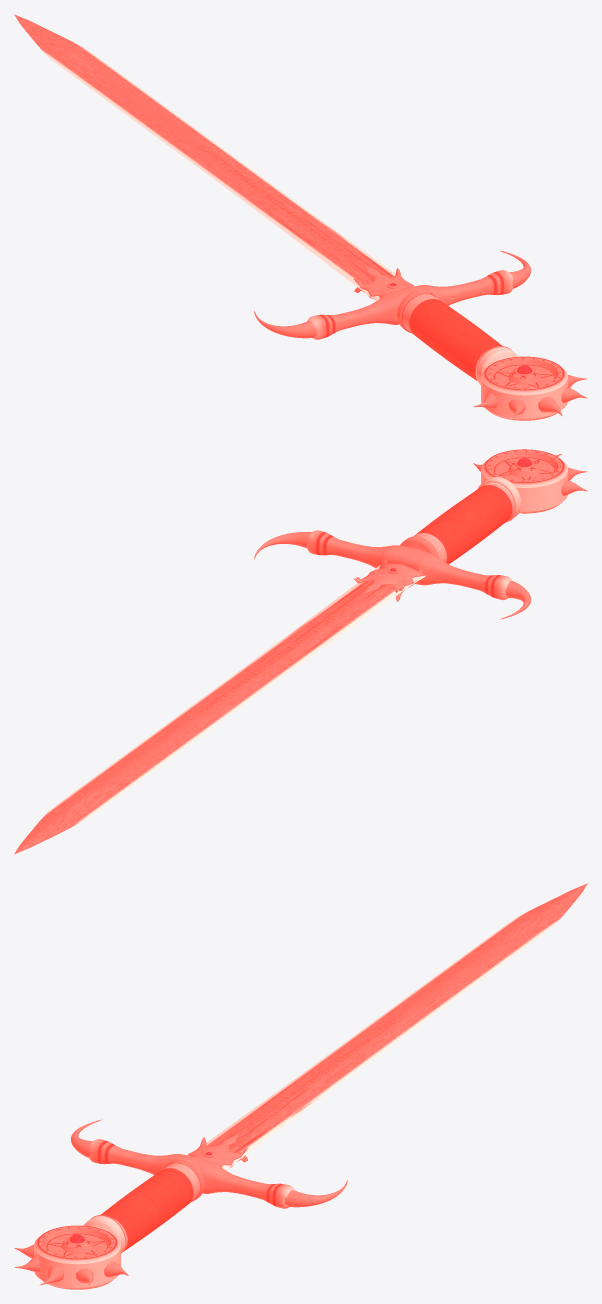
The model's file is KnightSword_vamp_v6_LP.glb.
3 renders of one model, top to bottom at view 1: azimuth 30°, elevation 25°; view 2: azimuth 150°, elevation 25°; view 3: azimuth 330°, elevation 25°, orthographic.
Visible parts, largest first — view 1: Sword_LP; view 2: Sword_LP; view 3: Sword_LP.
Boxes of the visible parts, x1,y1,x2,y2 form: Sword_LP: (14,14,587,420); Sword_LP: (14,449,587,854); Sword_LP: (14,883,587,1289).
Size of the model in its own units: 0.2776 by 0.0456 by 1.01.
Materials: 1 (1 with a texture image).
